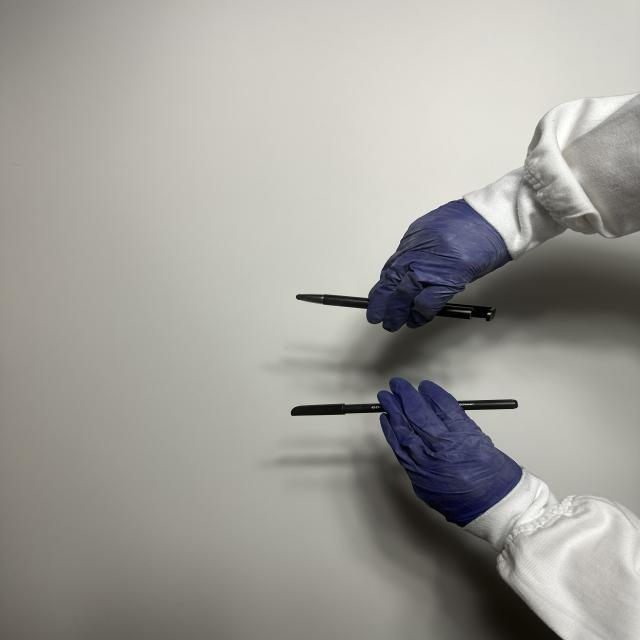gloves_contaminated: (379, 378, 522, 526), (367, 200, 511, 332)
